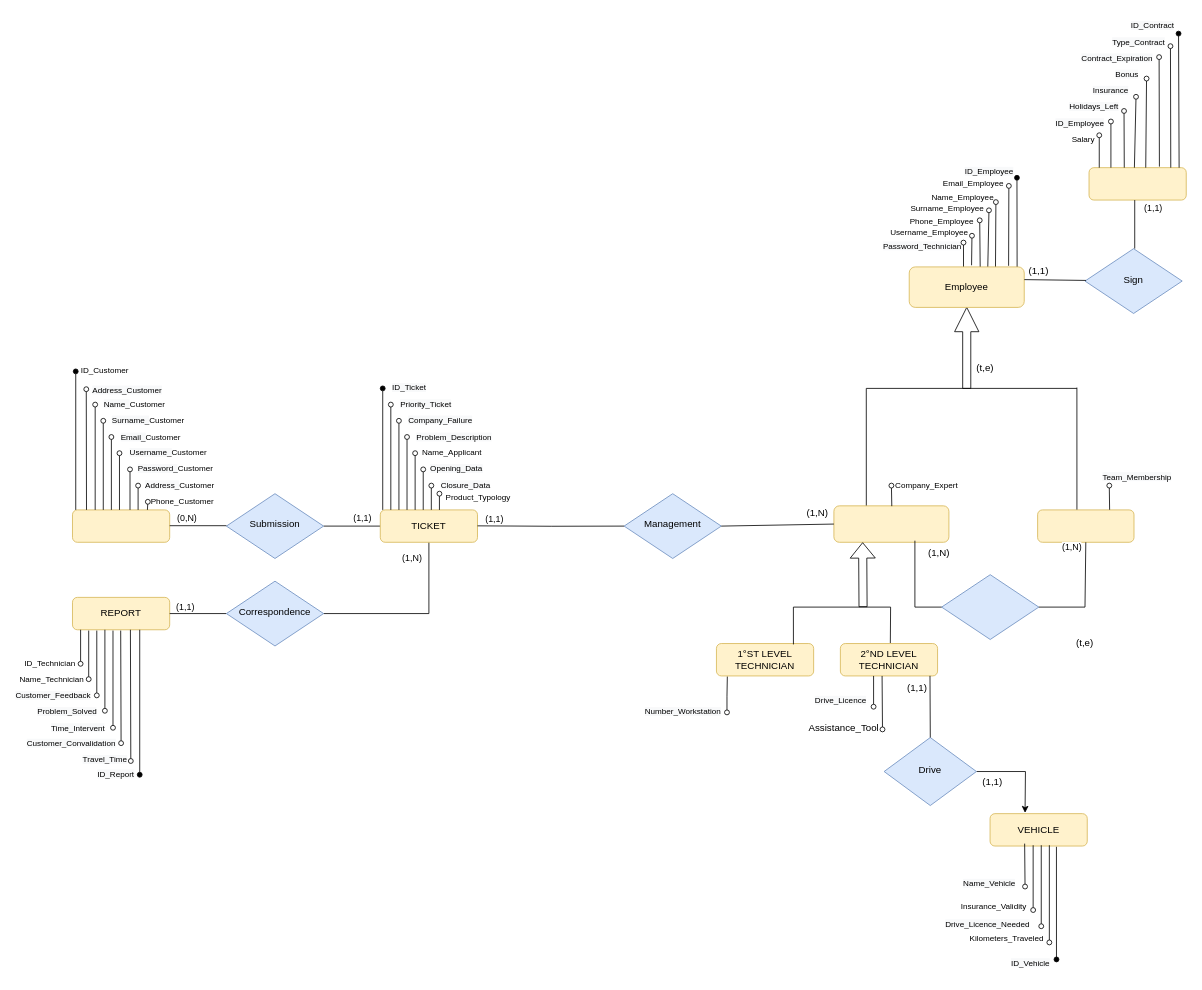
The diagram is 1202 pixels wide and 990 high, and some of its shapes have lost their labels. The shapes that lost their labels are listed below. From the top down, each one's centre as x and y in pixels, then its label:
[1137,183]: CONTRACT
[121,525]: CUSTOMER
[891,523]: TECHNICIAN
[1085,525]: MANAGER
[990,606]: Supervision
